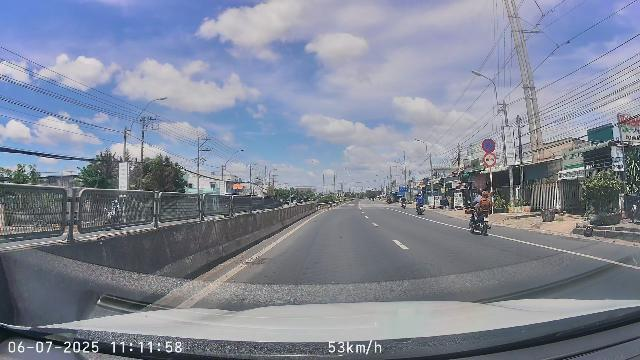125-cam-vuot: (483, 153, 497, 167)
130-cam-dung-va-do-xe: (482, 138, 496, 153)
